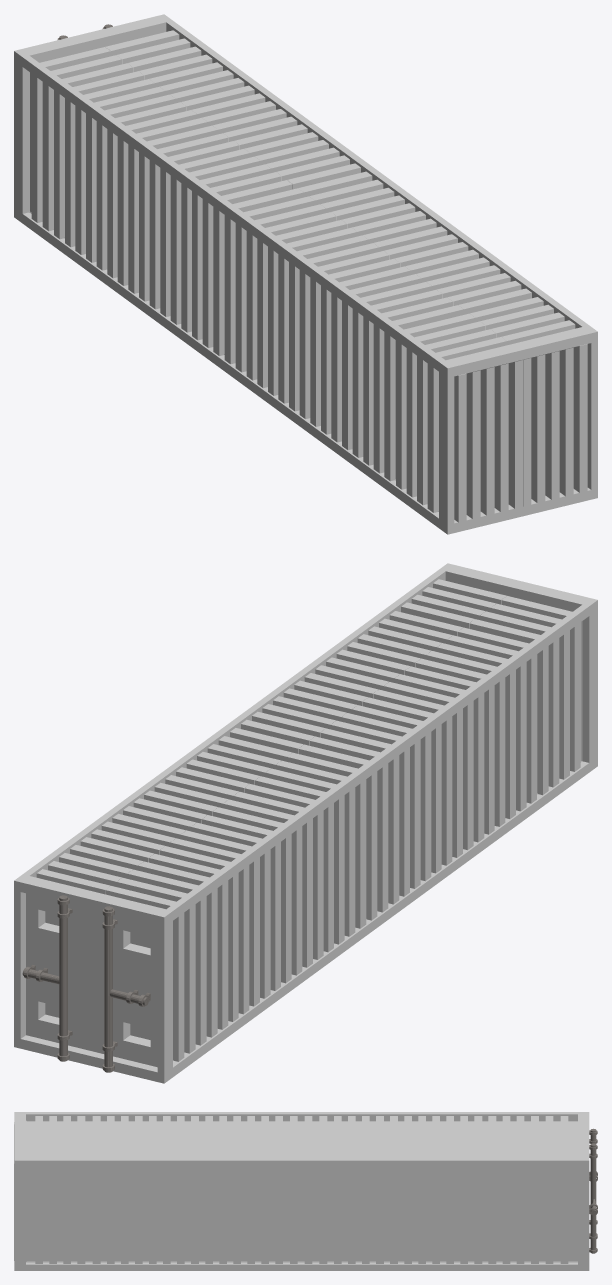
The model's file is 40feetSLS.fbx.
3 views of the same model, one above another, from view 1: azimuth 30°, elevation 25°; view 2: azimuth 150°, elevation 25°; view 3: azimuth 270°, elevation 25° (orthographic). The views are drawn at different scales.
Visible parts, largest first — view 1: Cube; view 2: Cube; view 3: Cube.
Part boxes in pixels (x1,y1,x2,y2): Cube: (14, 14, 597, 534); Cube: (14, 563, 597, 1083); Cube: (14, 1112, 597, 1270).
Size of the model in its own units: 244 by 259 by 1237.
